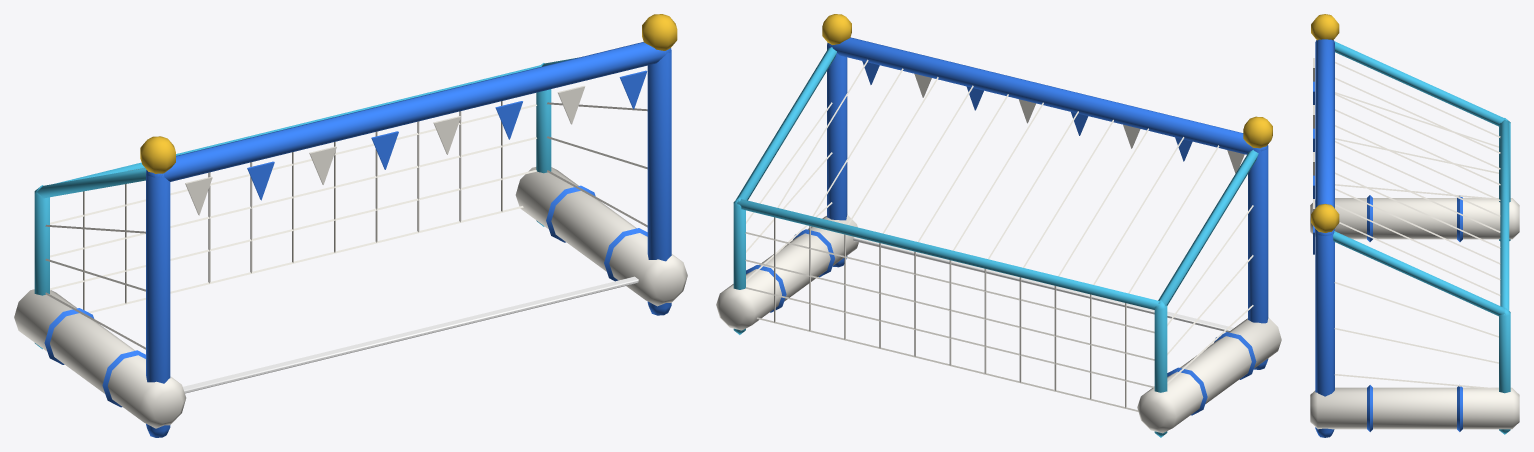
Rendered from Goal_B.fbx.
3 renders of one model, left to right at view 1: azimuth 30°, elevation 25°; view 2: azimuth 150°, elevation 25°; view 3: azimuth 270°, elevation 25°, orthographic. The views are drawn at different scales.
Visible parts, largest first — view 1: Goal_B; view 2: Goal_B; view 3: Goal_B.
Part boxes in pixels (x1=…): Goal_B: x1=14, y1=14, x2=687, y2=437; Goal_B: x1=716, y1=14, x2=1281, y2=437; Goal_B: x1=1310, y1=14, x2=1519, y2=437.
Bounding box in the file's own units: 6.64 × 3.43 × 2.8.
